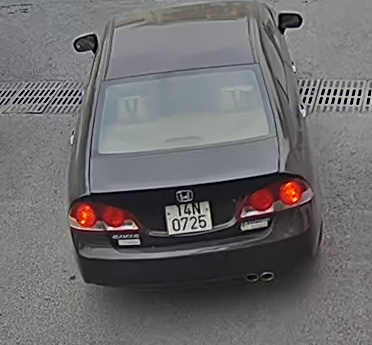vehicle plate: (163, 197, 215, 237)
